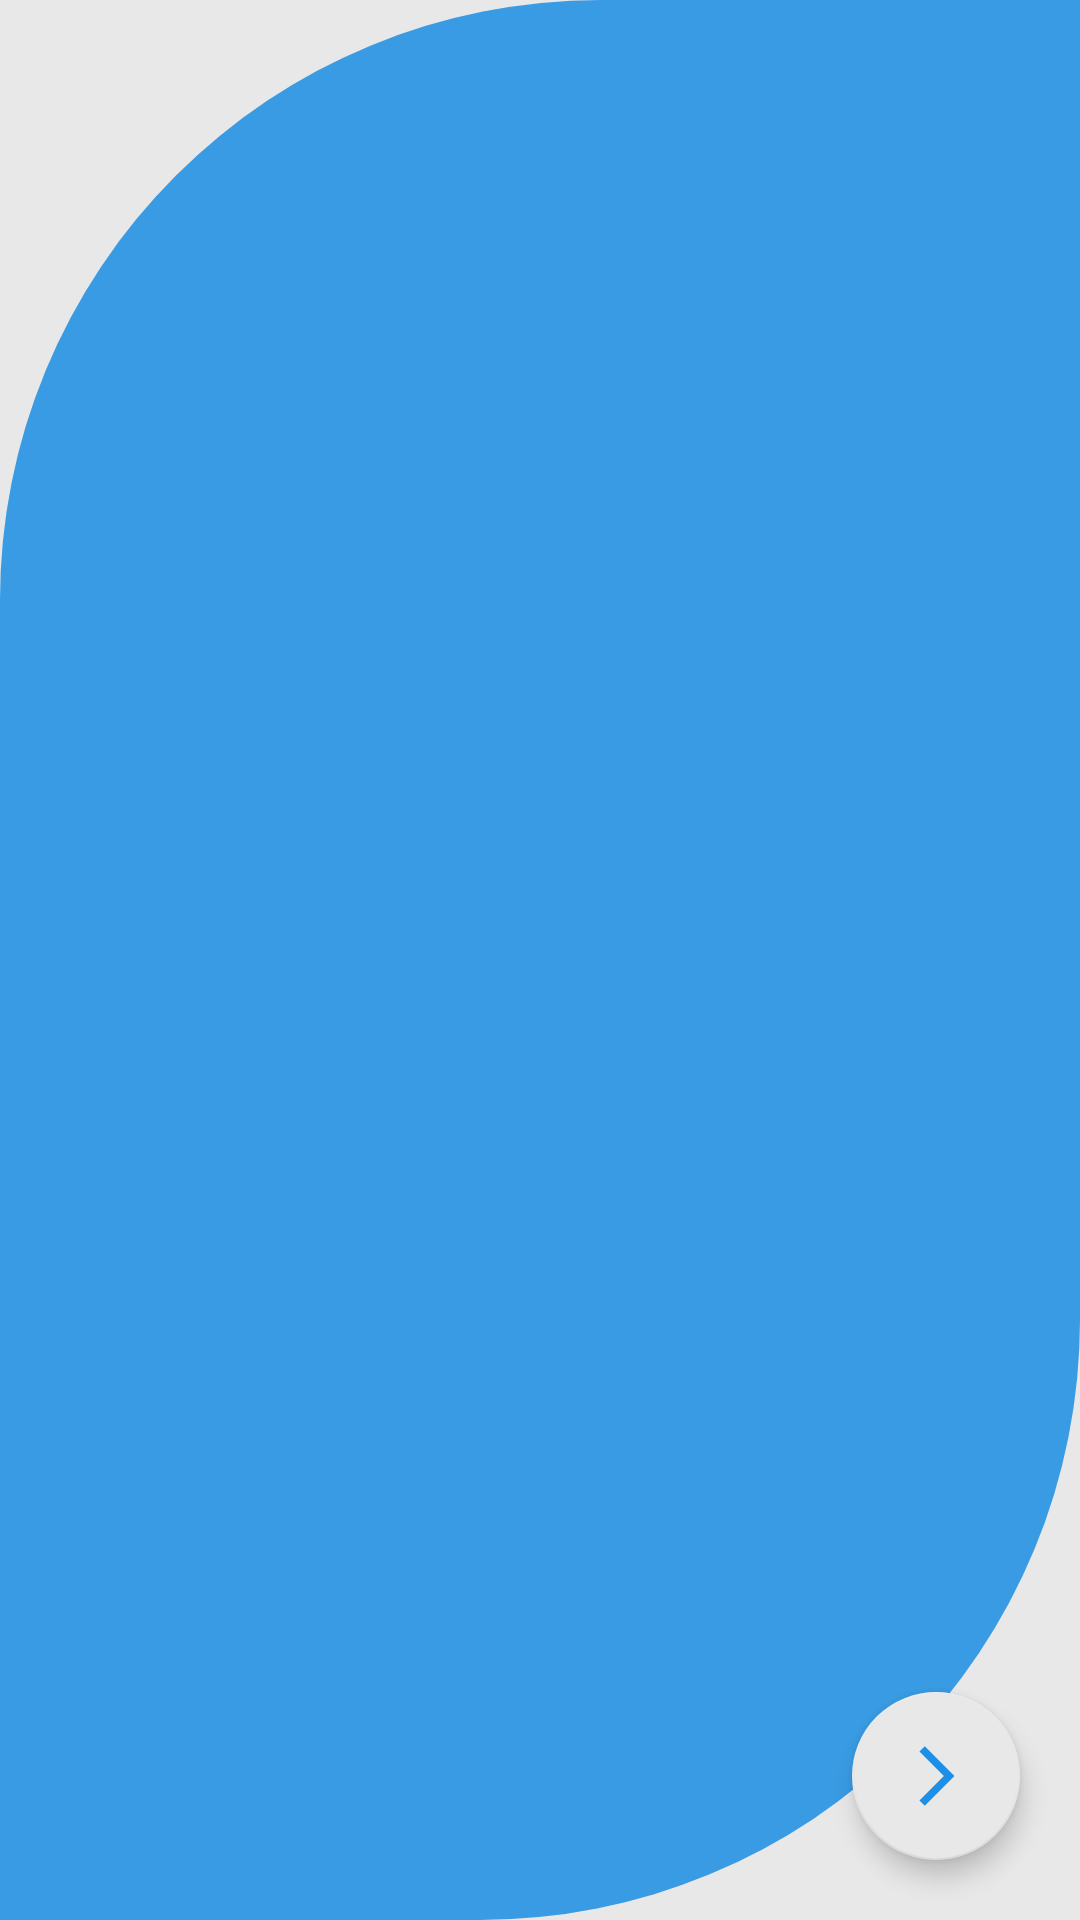

Point at icon controls on the screen. Image size 1080w x 1920h, points as (x,y).
arrow forward: (936,1776)
